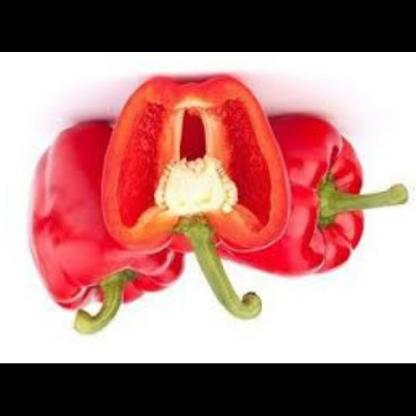bell pepper: (98, 68, 296, 297), (25, 116, 188, 316), (227, 112, 381, 283)
